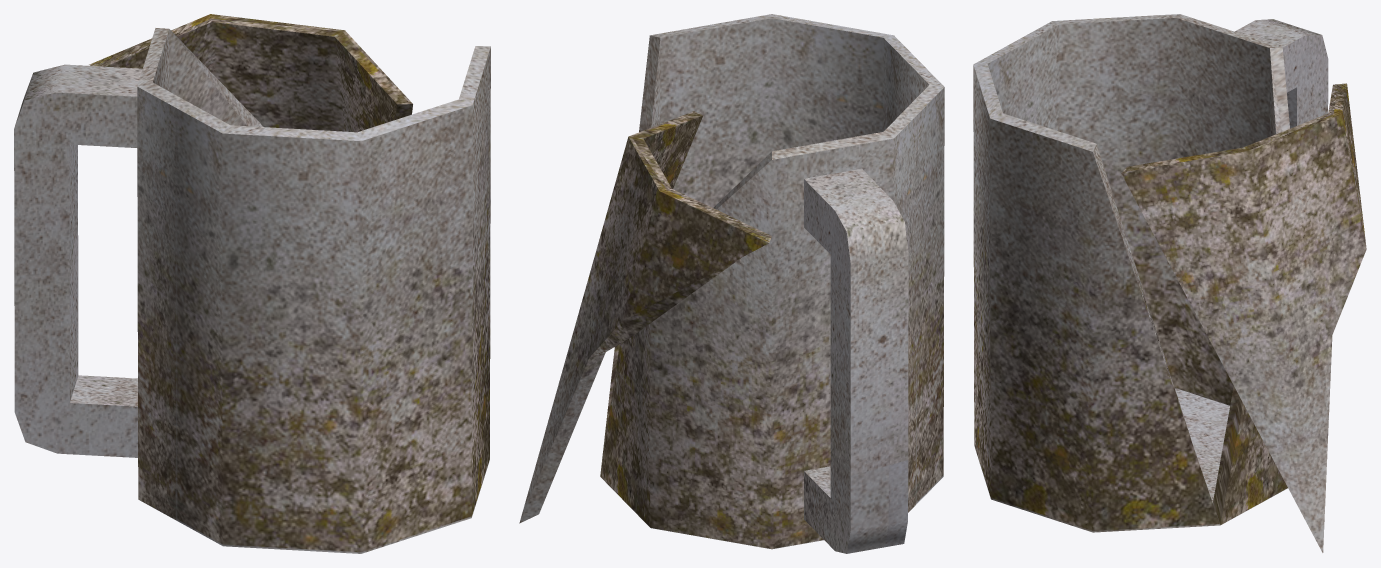
The model's file is BrokenMug2.fbx.
3 views of the same model, side by side, from view 1: azimuth 30°, elevation 25°; view 2: azimuth 150°, elevation 25°; view 3: azimuth 270°, elevation 25° (orthographic). The views are drawn at different scales.
Parts seen in each view (by area): view 1: BrokenMug2; view 2: BrokenMug2; view 3: BrokenMug2.
Part boxes in pixels (<box>): BrokenMug2: <box>14,14,490,553</box>; BrokenMug2: <box>519,14,944,553</box>; BrokenMug2: <box>973,14,1366,552</box>.
Bounding box in the file's own units: 2.5 × 2.65 × 2.37.
